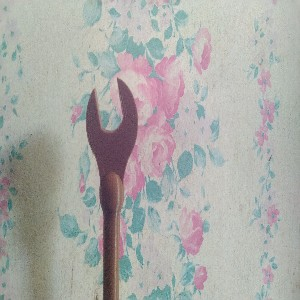spanner: (84, 78, 138, 300)
